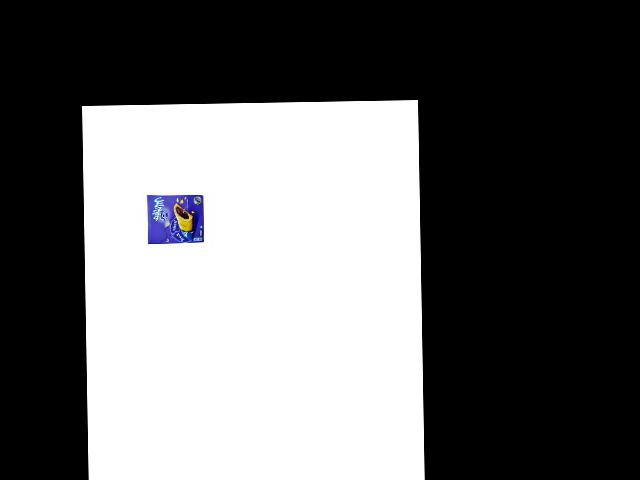chocolate: (143, 191, 208, 246)
